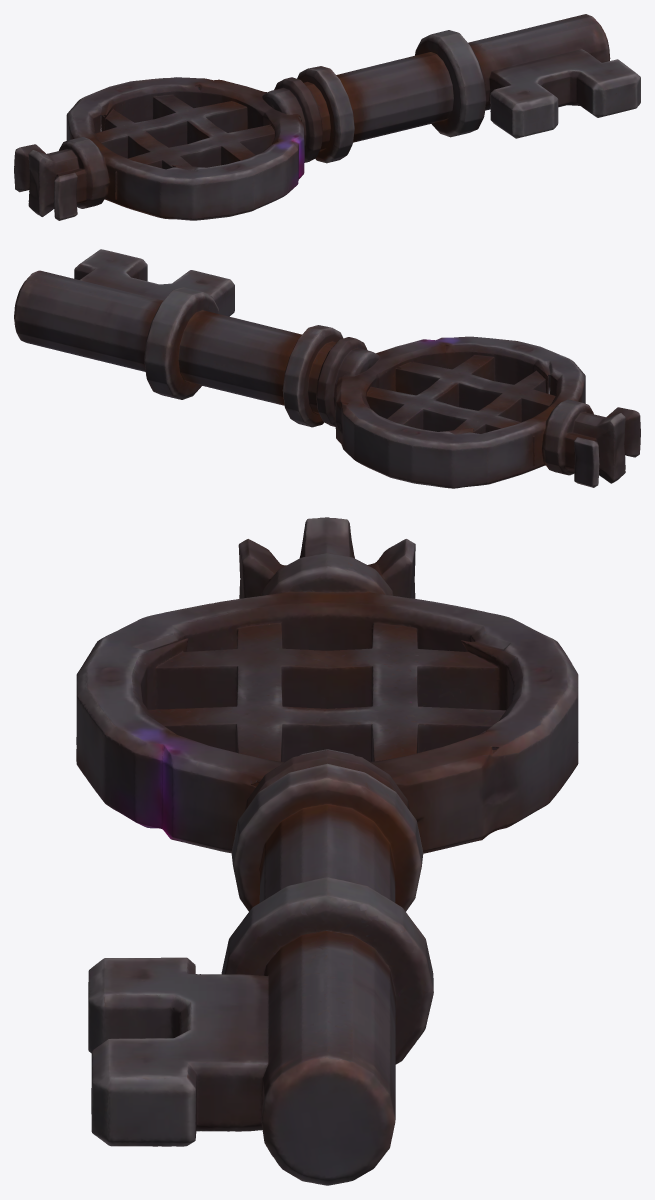
Rendered from key.glb.
3 renders of one model, top to bottom at view 1: azimuth 30°, elevation 25°; view 2: azimuth 150°, elevation 25°; view 3: azimuth 270°, elevation 25°, orthographic. The views are drawn at different scales.
Visible parts, largest first — view 1: world; view 2: world; view 3: world.
Part boxes in pixels (box(x1,y1,x2,y2)): world: box(14, 14, 640, 220); world: box(14, 249, 640, 488); world: box(76, 517, 578, 1185).
Bounding box in the file's own units: 1 × 0.1641 × 0.3868.
Materials: 1 (1 with a texture image).
